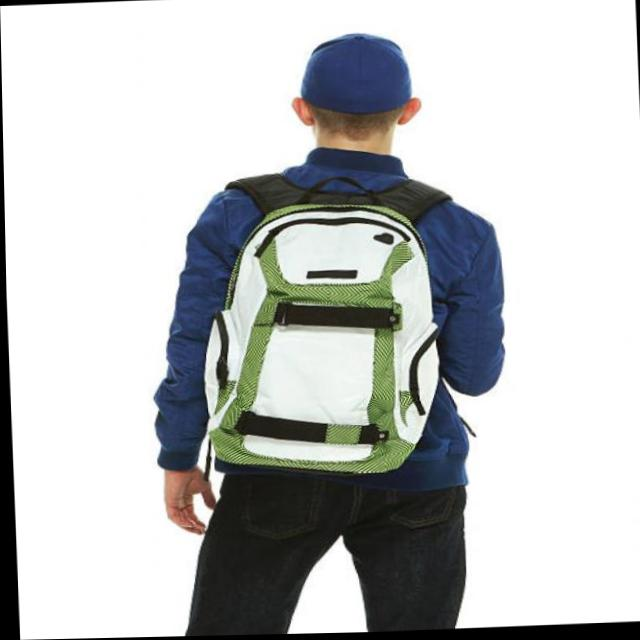no helmet: (260, 28, 436, 161)
